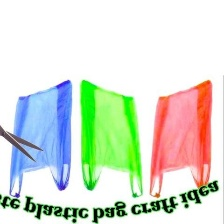plastic_bag: (146, 75, 217, 199), (4, 78, 74, 200), (78, 77, 146, 200)
